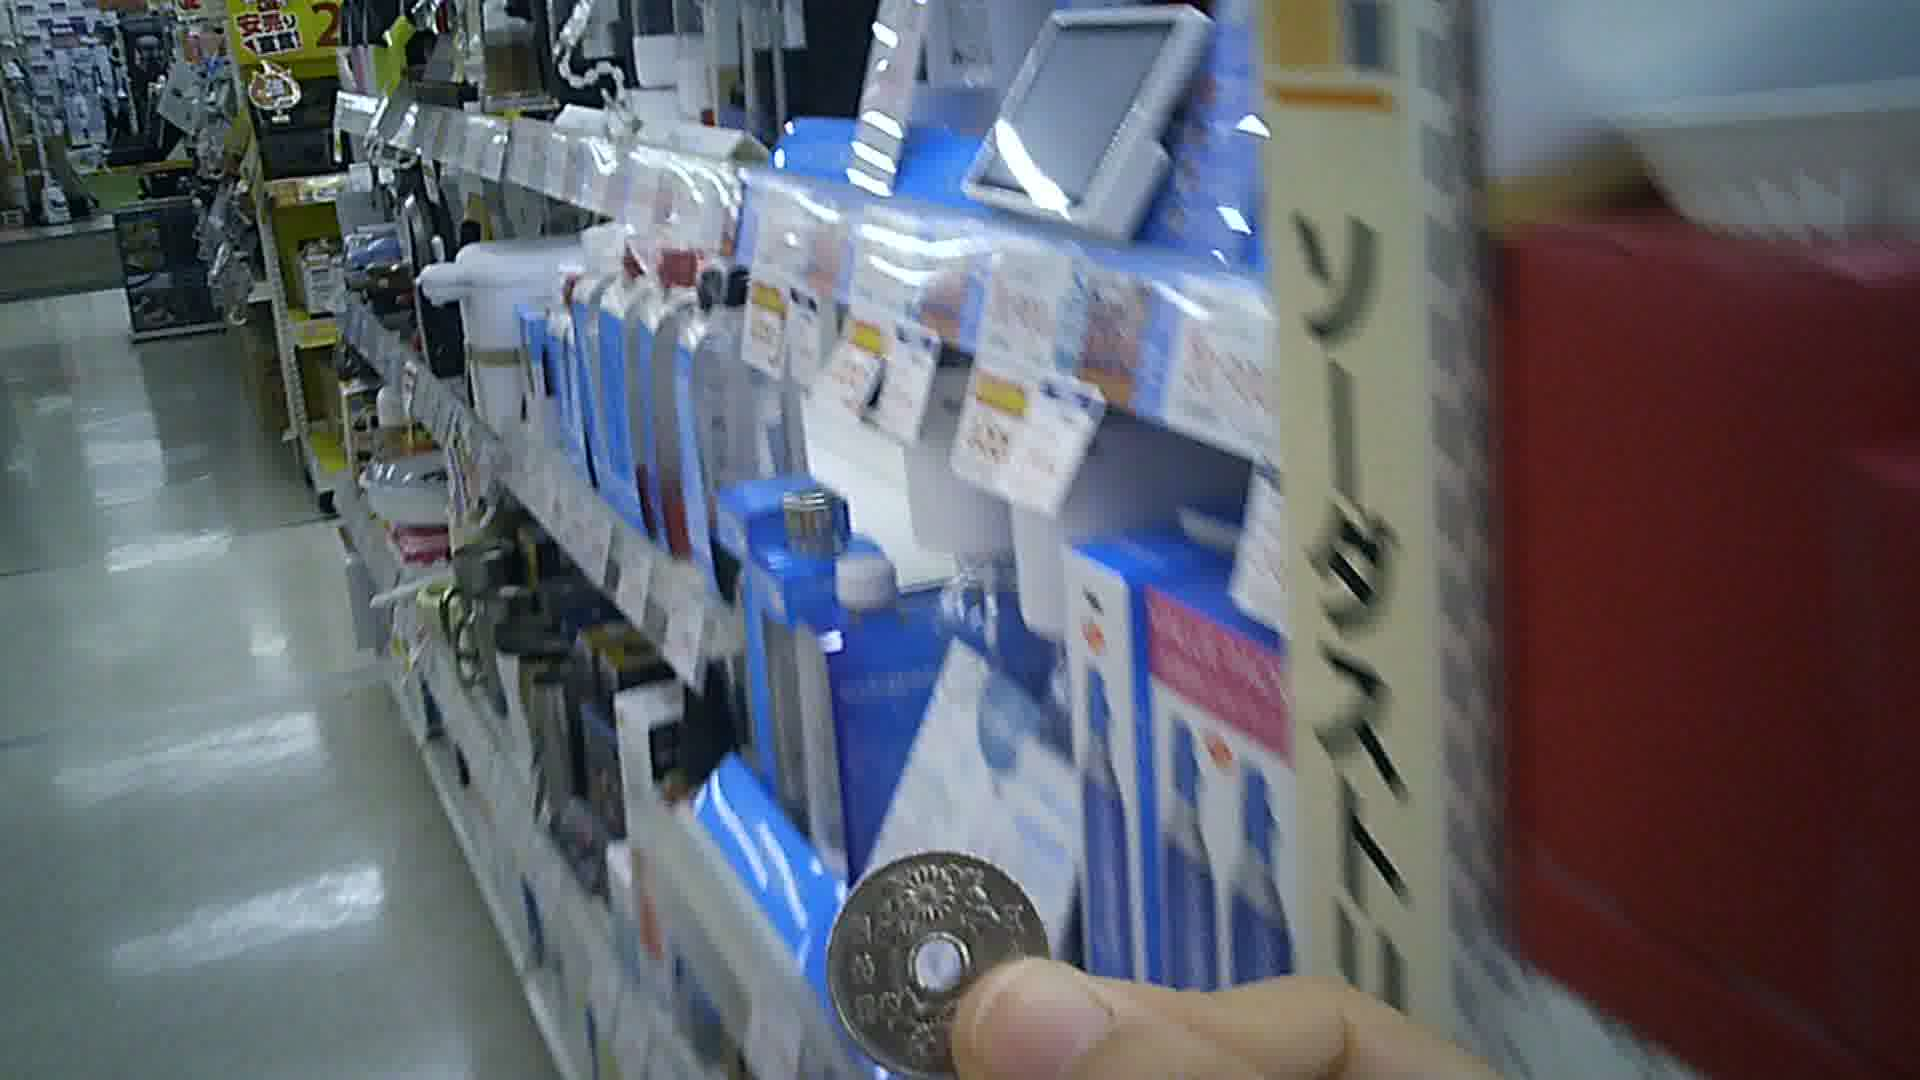50 Yen: (818, 849, 1059, 1076)
